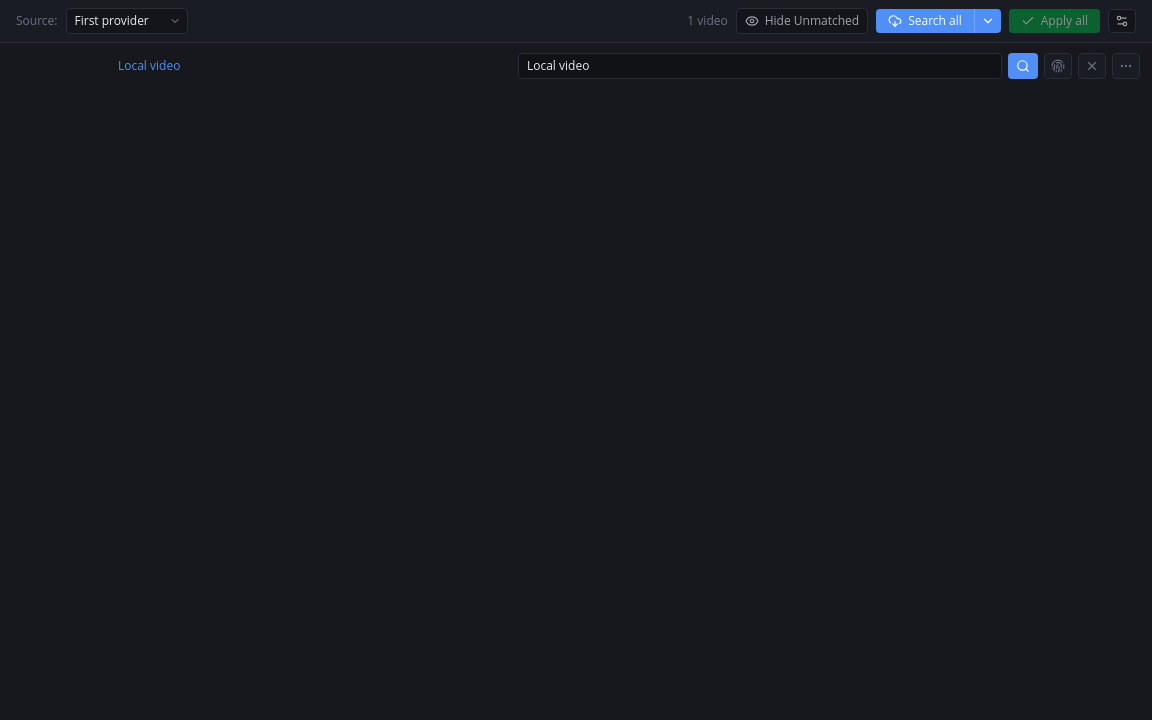
Test: VideoTagger › leaves a deliberately empty gender selection alone once the migration has already run
The width and height of the screenshot is (1152, 720).
Click the button named "Tagger settings" at (1122, 21), box x1=1108 y1=9 x2=1136 y2=33
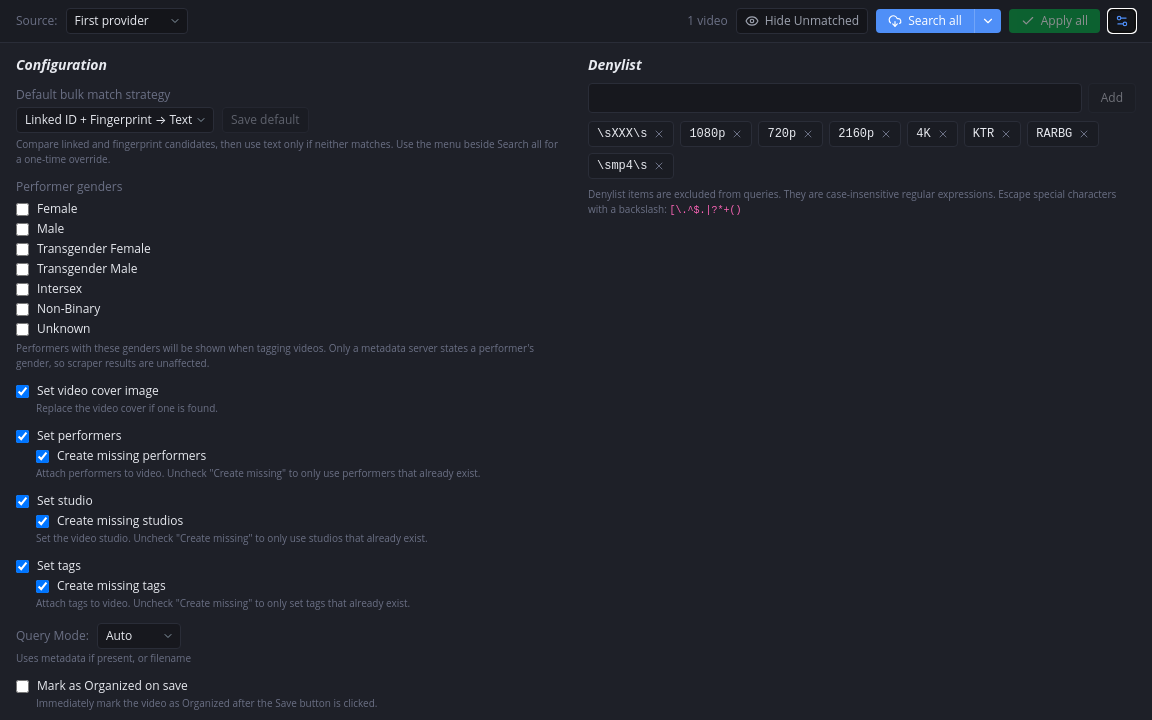
Expected: the checkbox labelled "Female" is not checked, x1=16 y1=202 x2=29 y2=216
Expected: the checkbox labelled "Male" is not checked, x1=16 y1=222 x2=29 y2=236
Expected: the checkbox labelled "Unknown" is not checked, x1=16 y1=322 x2=29 y2=336
